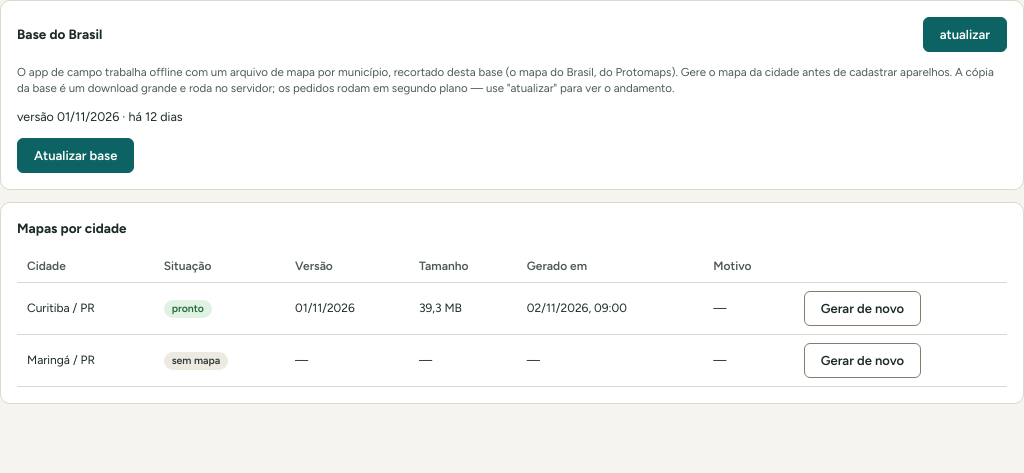
Scenario: FieldMaps › recusa do envelope (payload nulo): código e mensagem
The width and height of the screenshot is (1024, 473).
Click the button with aria-label "Gerar de novo Maringá". click: (862, 361)
box: [804,343,921,378]
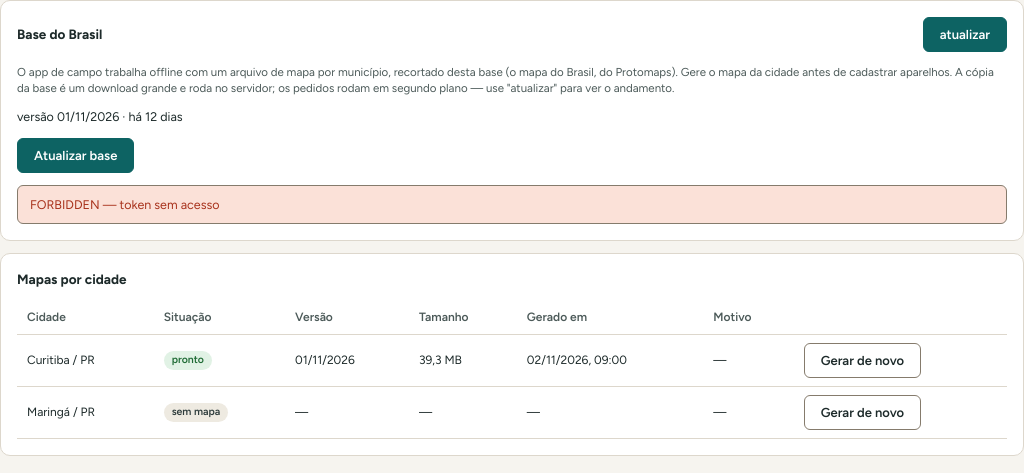
Result: the message reads "FORBIDDEN — token sem acesso" at [30,197,220,212]
